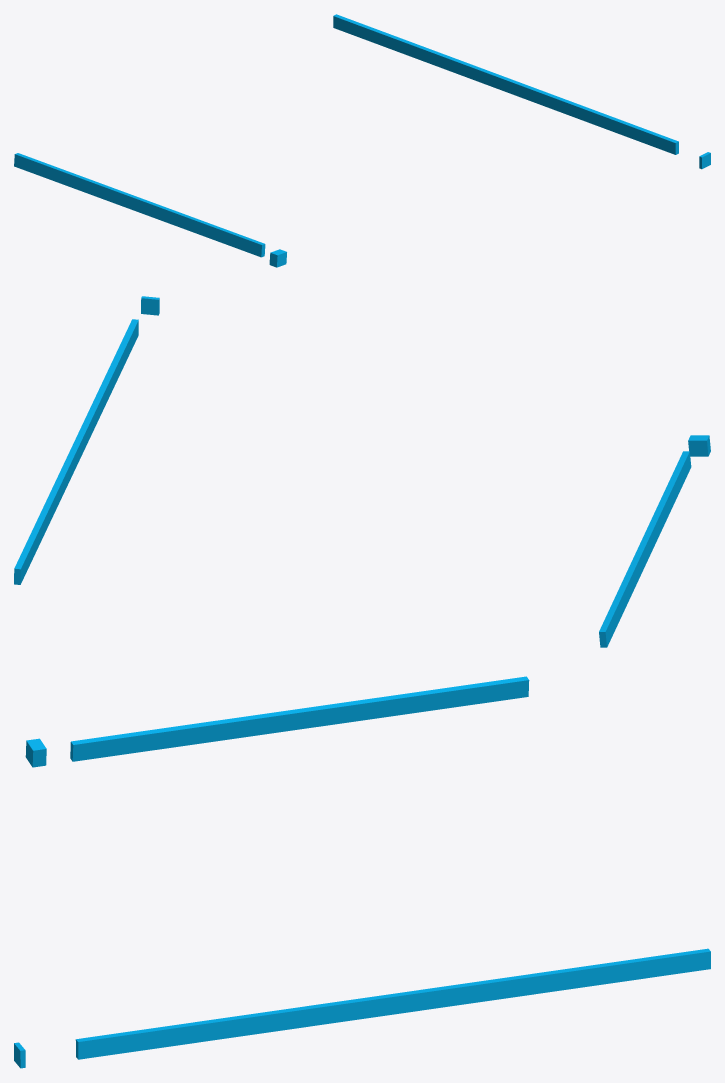
File: Cables_Col.fbx
The picture shows the model from 3 angles, top to bottom: view 1: azimuth 30°, elevation 25°; view 2: azimuth 150°, elevation 25°; view 3: azimuth 270°, elevation 25°; orthographic projection. The views are drawn at different scales.
Parts seen in each view (by area): view 1: UBX_Bottom_Gully_Col, UBX_Top_gully_Col; view 2: UBX_Bottom_Gully_Col, UBX_Top_gully_Col; view 3: UBX_Bottom_Gully_Col, UBX_Top_gully_Col.
Part boxes in pixels (box(x1,y1,x2,y2)): UBX_Bottom_Gully_Col: box(333, 14, 678, 154); UBX_Top_gully_Col: box(14, 153, 265, 257); UBX_Bottom_Gully_Col: box(14, 319, 138, 584); UBX_Top_gully_Col: box(599, 451, 691, 647); UBX_Bottom_Gully_Col: box(75, 948, 710, 1059); UBX_Top_gully_Col: box(70, 676, 529, 761).
Bounding box in the file's own units: 7371 × 182 × 5788.
